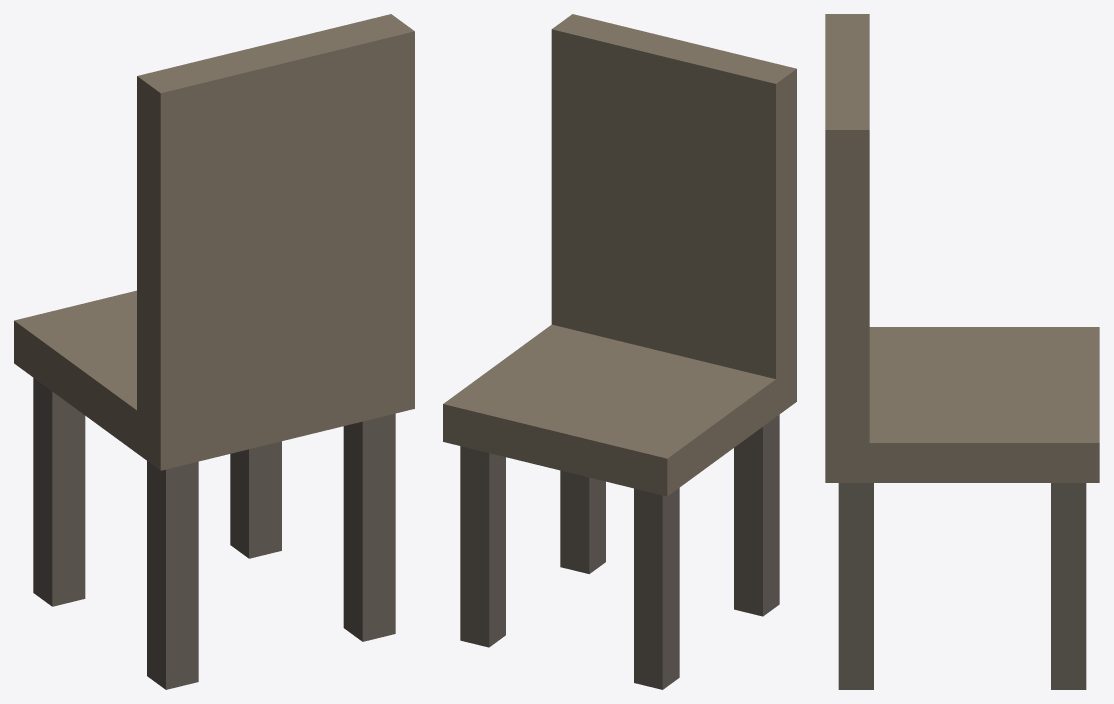
File: chair.glb
3 renders of one model, left to right at view 1: azimuth 30°, elevation 25°; view 2: azimuth 150°, elevation 25°; view 3: azimuth 270°, elevation 25°, orthographic. The views are drawn at different scales.
Visible parts, largest first — view 1: back_1, seat_0, leg_5, leg_3, leg_2, leg_4; view 2: back_1, seat_0, leg_2, leg_4, leg_3, leg_5; view 3: seat_0, back_1, leg_4, leg_5.
Boxes of the visible parts, <box> form: back_1: <box>137,14,414,427</box>; seat_0: <box>14,290,414,470</box>; leg_5: <box>343,413,395,641</box>; leg_3: <box>147,461,198,689</box>; leg_2: <box>33,378,85,606</box>; leg_4: <box>230,441,281,558</box>; back_1: <box>551,14,796,378</box>; seat_0: <box>443,324,796,496</box>; leg_2: <box>634,488,679,689</box>; leg_4: <box>460,446,505,647</box>; leg_3: <box>734,414,779,616</box>; leg_5: <box>560,470,605,574</box>; seat_0: <box>825,327,1099,482</box>; back_1: <box>825,14,869,442</box>; leg_4: <box>1051,483,1086,689</box>; leg_5: <box>838,483,873,689</box>.
Size of the model in its own units: 0.62 by 1.41 by 0.62.
